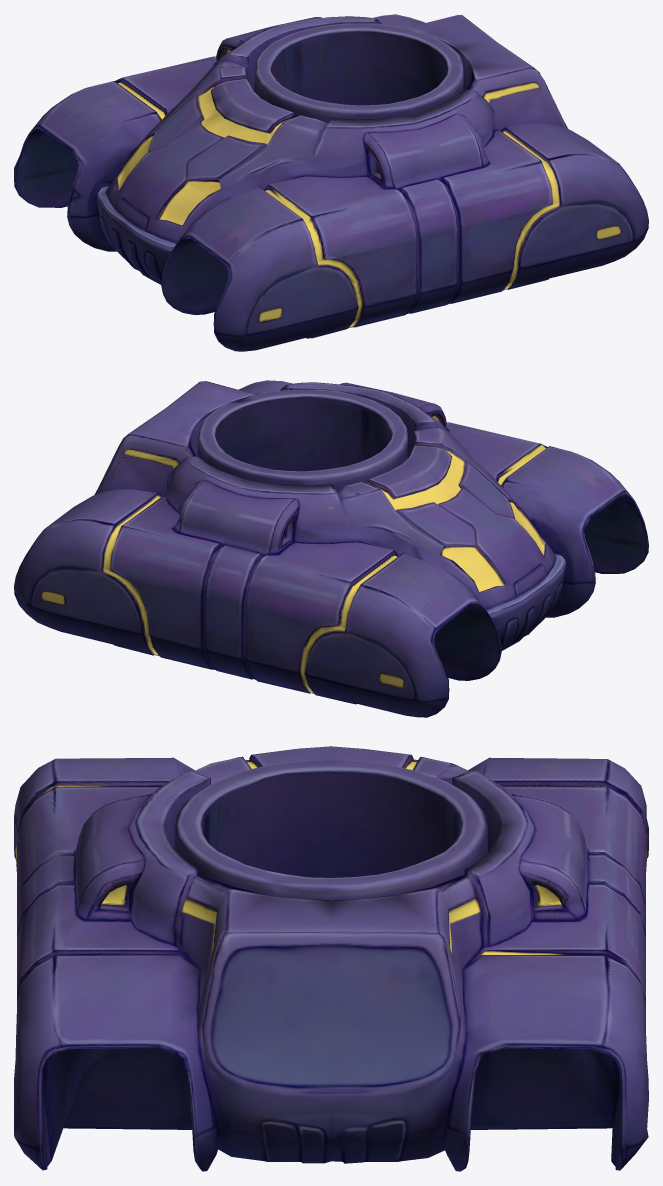
File: enemy_tank_hull.glb
3 renders of one model, top to bottom at view 1: azimuth 30°, elevation 25°; view 2: azimuth 150°, elevation 25°; view 3: azimuth 270°, elevation 25°, orthographic. The views are drawn at different scales.
Visible parts, largest first — view 1: geometry_0; view 2: geometry_0; view 3: geometry_0.
Boxes of the visible parts, x1,y1,x2,y2 form: geometry_0: (14, 14, 648, 351); geometry_0: (14, 380, 648, 717); geometry_0: (14, 746, 648, 1171).
Bounding box in the file's own units: 0.9497 × 0.3569 × 0.8276.
1 material, 1 textured.
